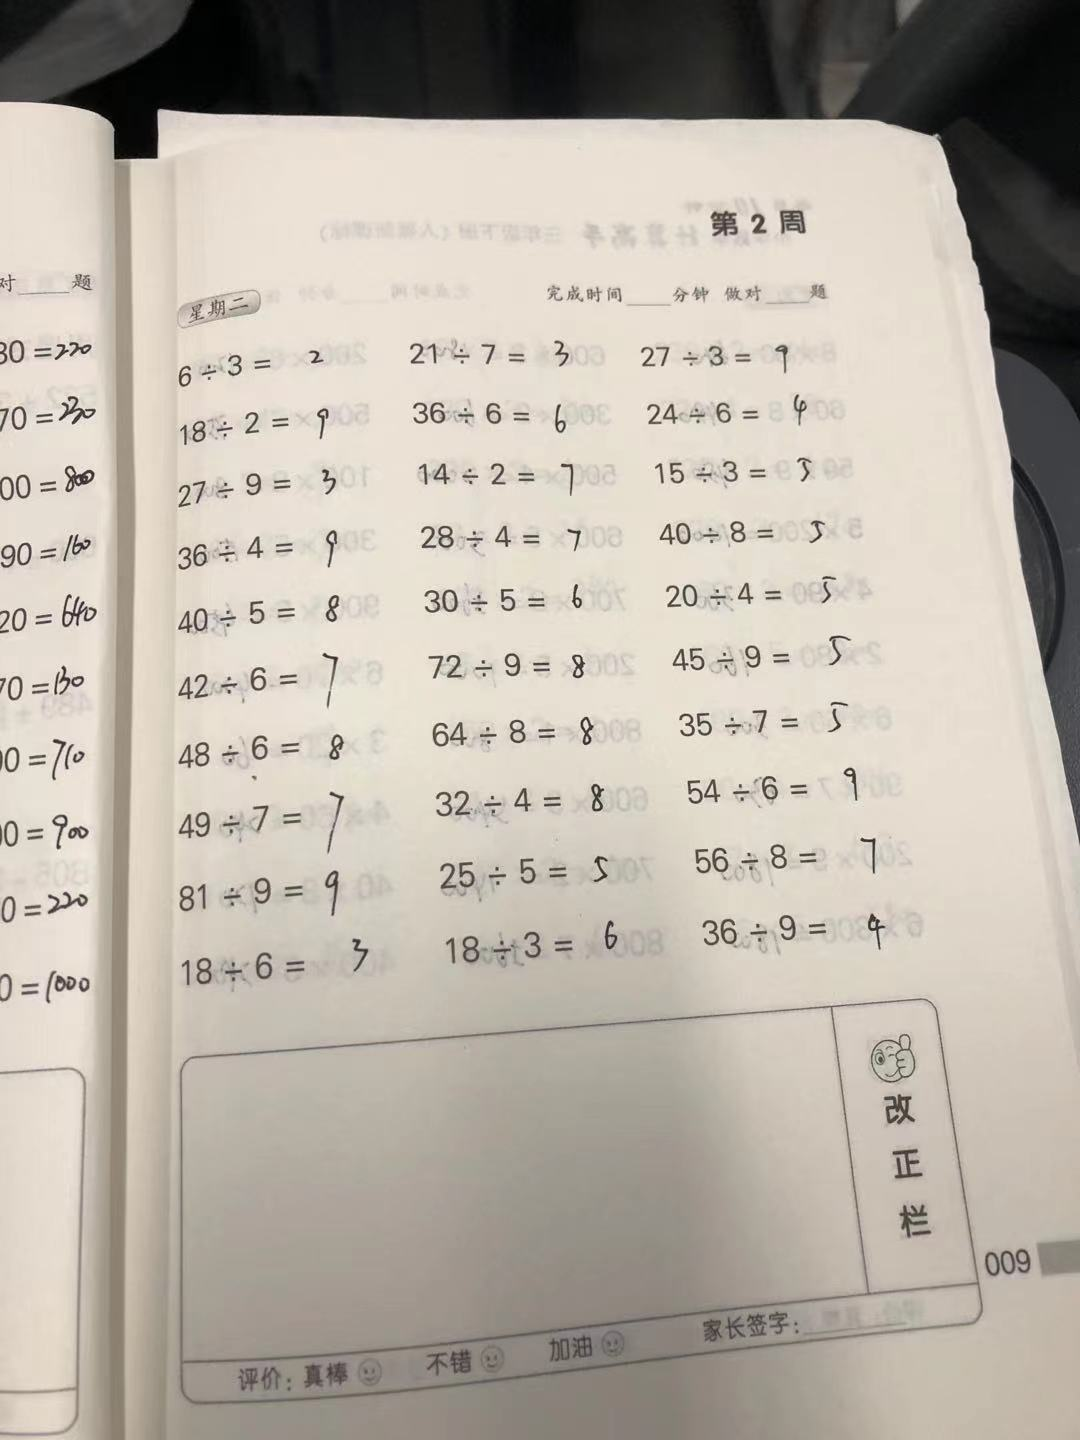equation: (170, 647, 381, 715), (168, 859, 387, 922), (171, 936, 390, 998), (668, 627, 877, 690), (690, 907, 911, 965), (176, 788, 376, 852), (171, 724, 379, 784), (171, 585, 370, 644), (674, 758, 884, 813), (688, 828, 902, 881), (434, 847, 634, 902), (393, 332, 605, 382), (171, 522, 365, 575), (673, 698, 882, 747), (424, 705, 617, 758), (179, 401, 361, 453), (168, 465, 365, 512), (657, 510, 862, 555), (651, 570, 862, 613), (431, 779, 619, 827), (651, 450, 848, 495), (625, 339, 830, 382), (170, 347, 351, 395), (399, 396, 591, 441), (419, 642, 605, 688), (424, 581, 610, 625), (639, 395, 836, 436), (445, 928, 641, 968), (421, 521, 599, 565), (411, 453, 585, 498)
